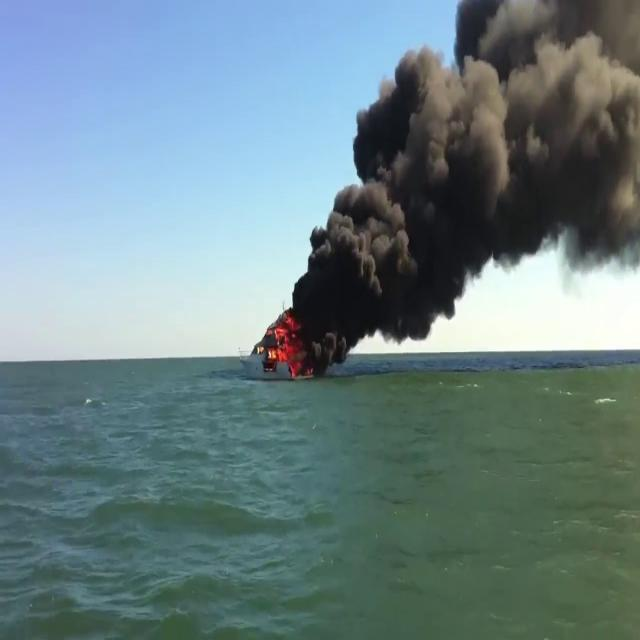Fire: (254, 311, 302, 373)
Smoke: (292, 0, 639, 349)
